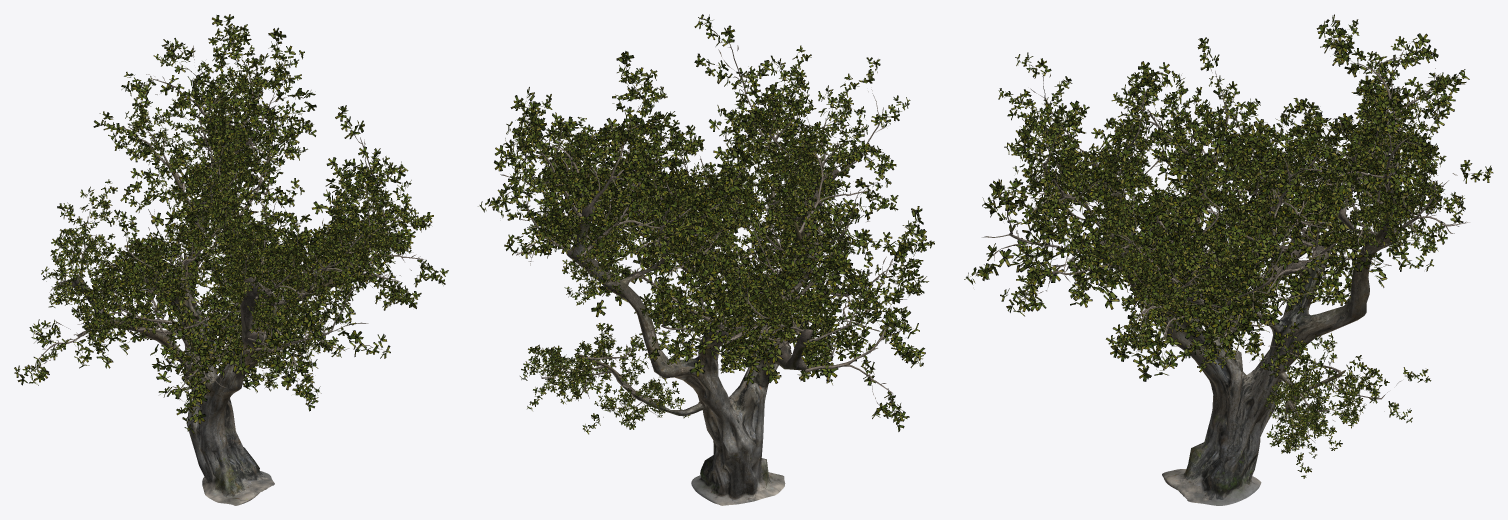
The model's file is near.glb.
The picture shows the model from 3 angles, left to right: view 1: azimuth 30°, elevation 25°; view 2: azimuth 150°, elevation 25°; view 3: azimuth 270°, elevation 25°; orthographic projection. The views are drawn at different scales.
Visible parts, largest first — view 1: island_tree_01_LOD0; view 2: island_tree_01_LOD0; view 3: island_tree_01_LOD0.
Part boxes in pixels (x1=…): island_tree_01_LOD0: x1=14, y1=14, x2=448, y2=505; island_tree_01_LOD0: x1=478, y1=14, x2=934, y2=505; island_tree_01_LOD0: x1=964, y1=14, x2=1493, y2=505.
Size of the model in its own units: 4.76 by 5.03 by 4.82.
Materials: 3 (3 with a texture image).
